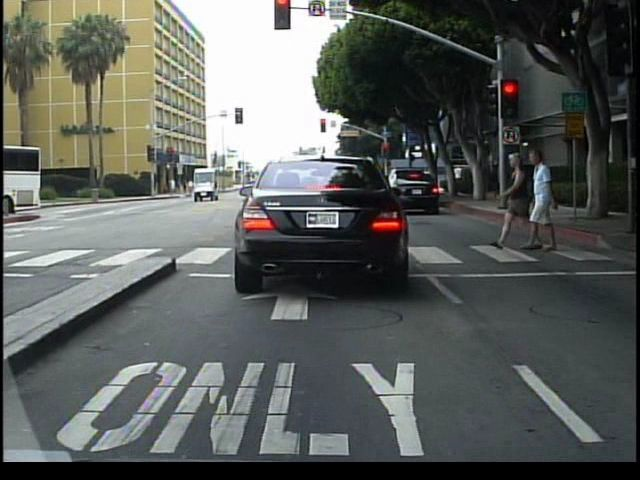person: (529, 145, 566, 255), (501, 150, 533, 258)
